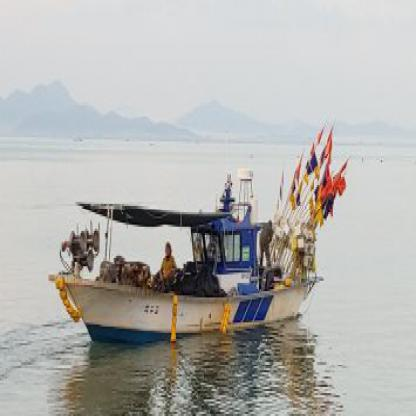fish-b: (52, 177, 338, 349)
